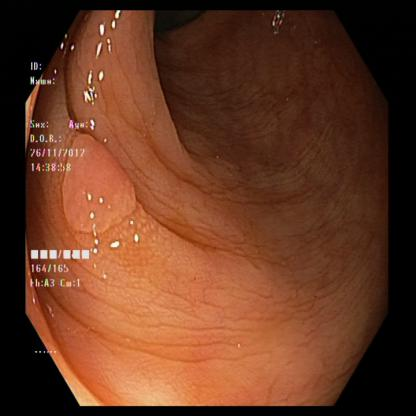Labels: (26, 55, 90, 186), (26, 236, 98, 319)
Polyps: (61, 136, 138, 242)
